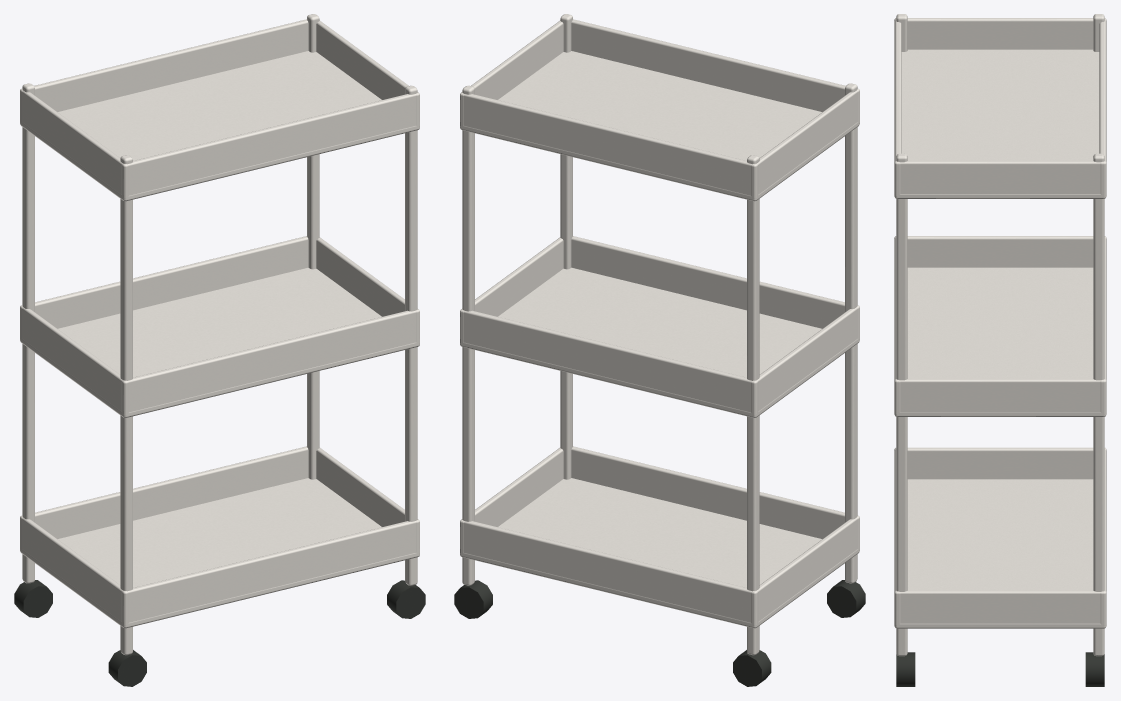
The model's file is nissafors-mobile.glb.
3 renders of one model, left to right at view 1: azimuth 30°, elevation 25°; view 2: azimuth 150°, elevation 25°; view 3: azimuth 270°, elevation 25°, orthographic.
Visible parts, largest first — view 1: NISSAFORS Kitchen trolley; view 2: NISSAFORS Kitchen trolley; view 3: NISSAFORS Kitchen trolley.
Boxes of the visible parts, <box> form: NISSAFORS Kitchen trolley: <box>14,14,425,686</box>; NISSAFORS Kitchen trolley: <box>454,14,865,686</box>; NISSAFORS Kitchen trolley: <box>894,14,1106,686</box>.
Size of the model in its own units: 0.505 by 0.83 by 0.3.
Materials: 2 (2 with a texture image).
